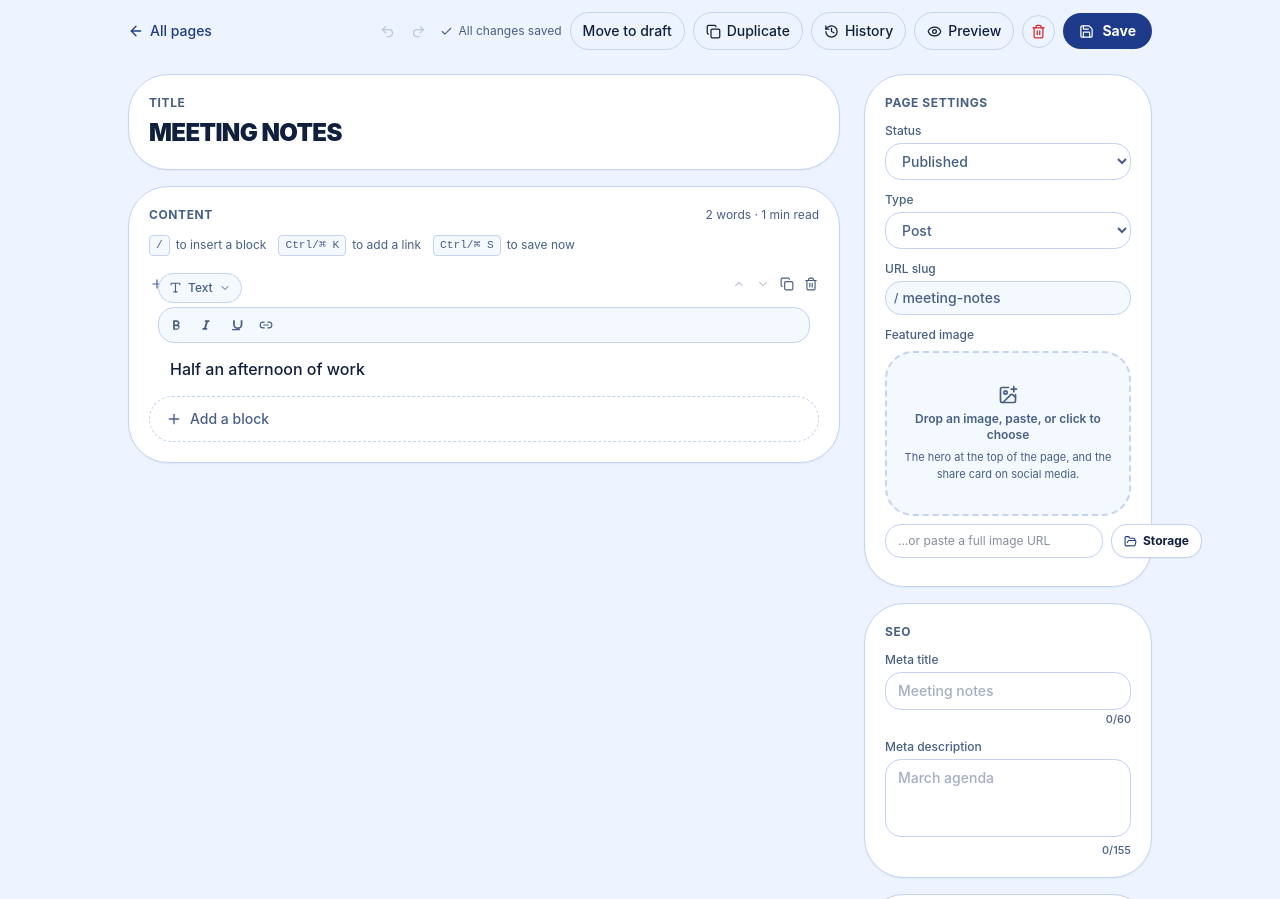
Test: The editor cannot silently lose, unpublish, or misreport a page › offers reload, not retry, when a colleague saved first
The width and height of the screenshot is (1280, 899).
Clear the field labelled "Half an afternoon of work" at (267, 369), box [170, 359, 365, 379]
Wait 200 ms
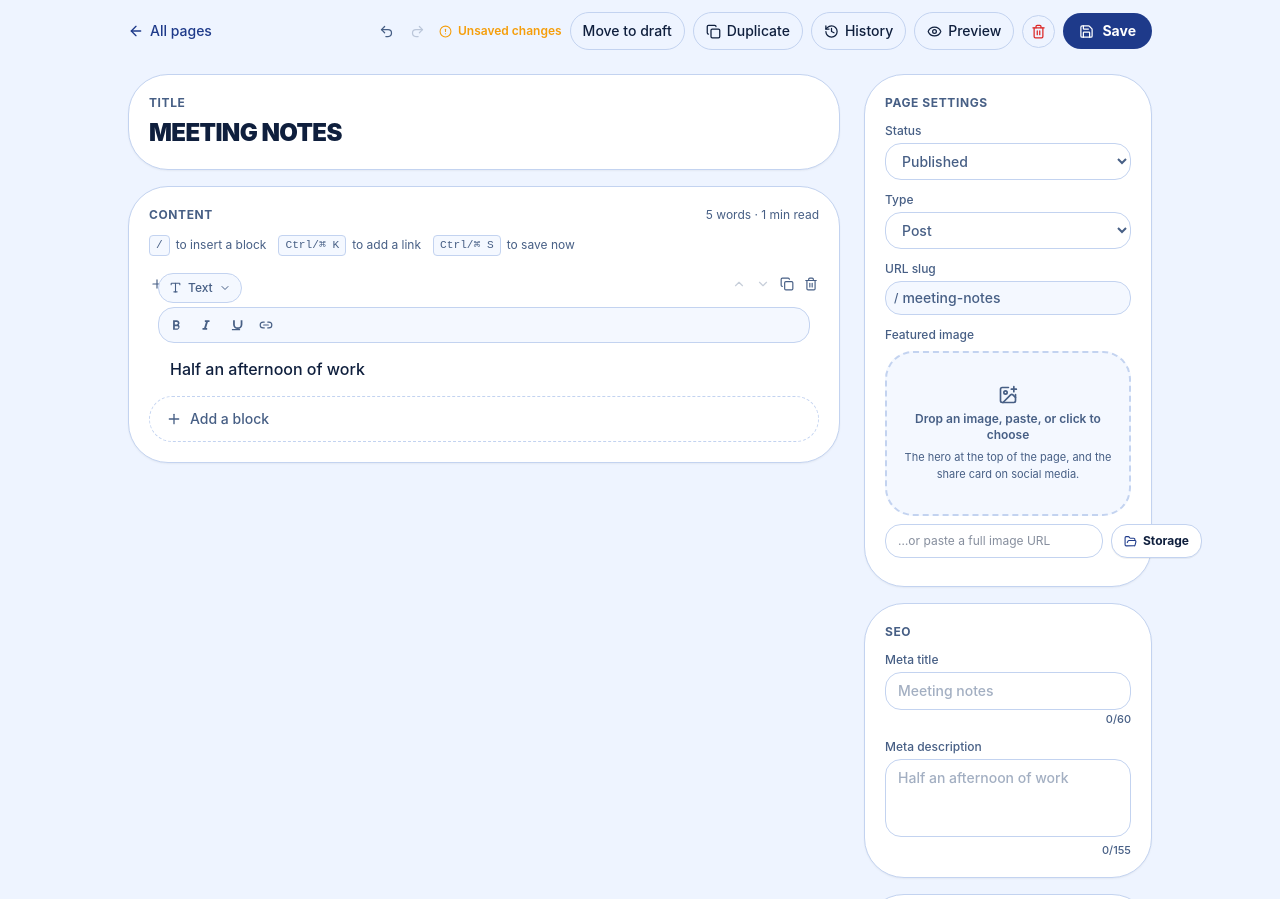
Click the button "Save".
click(1108, 31)  # box [1064, 13, 1152, 49]
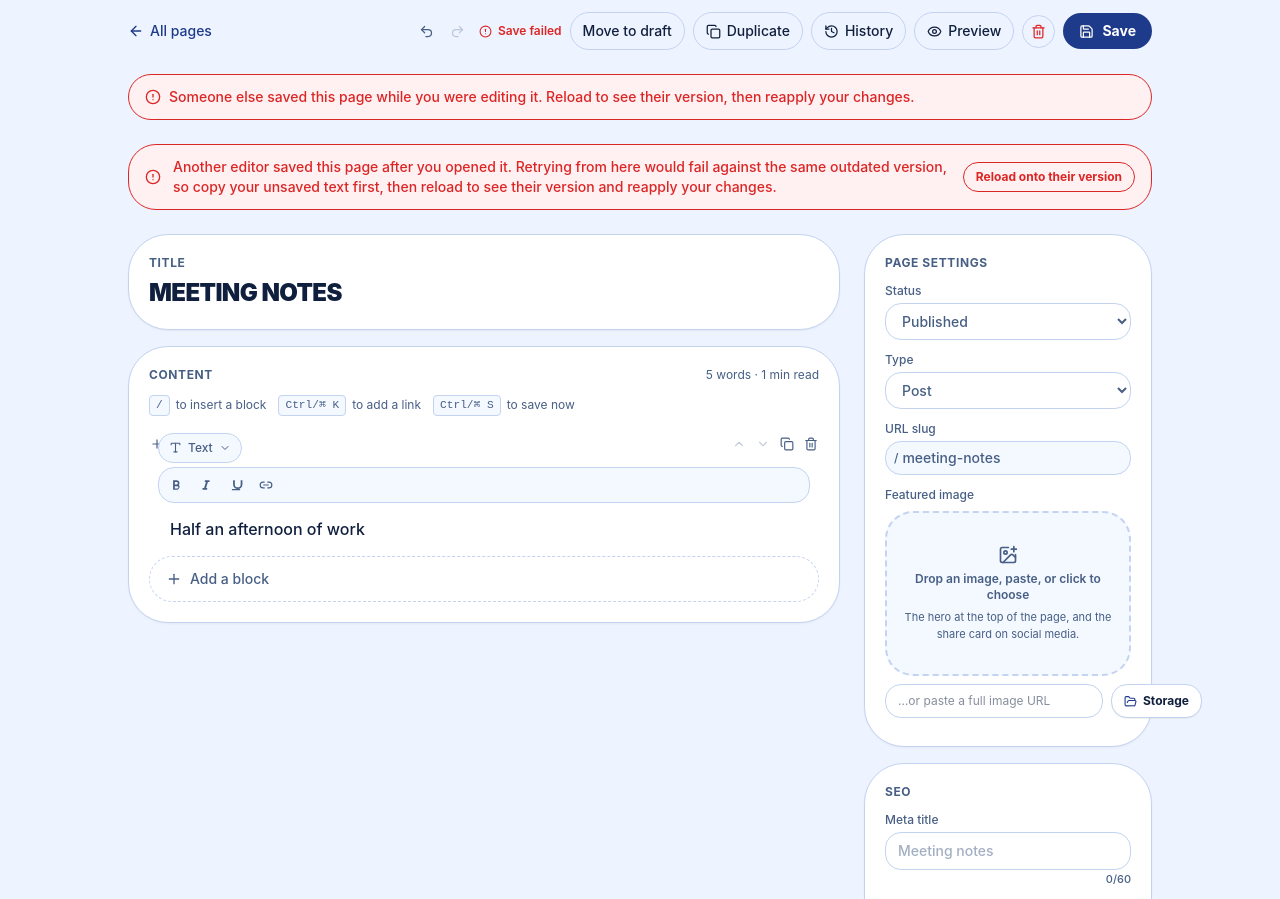
expect the text "Another editor saved this page" is shown: met, box [173, 158, 947, 195]
expect the text "copy your unsaved text first" is shown: met, box [173, 158, 947, 195]
expect the 3rd message shows "Reload onto their version": met, box [963, 162, 1135, 192]
